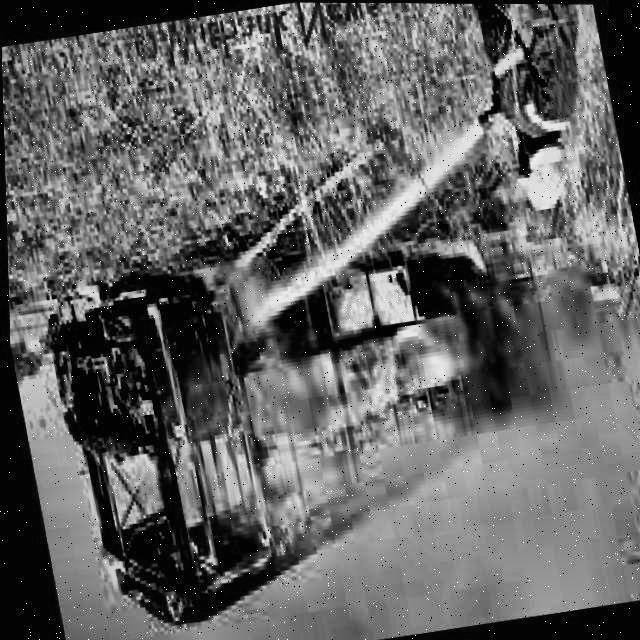Smoke: (235, 250, 640, 640)
